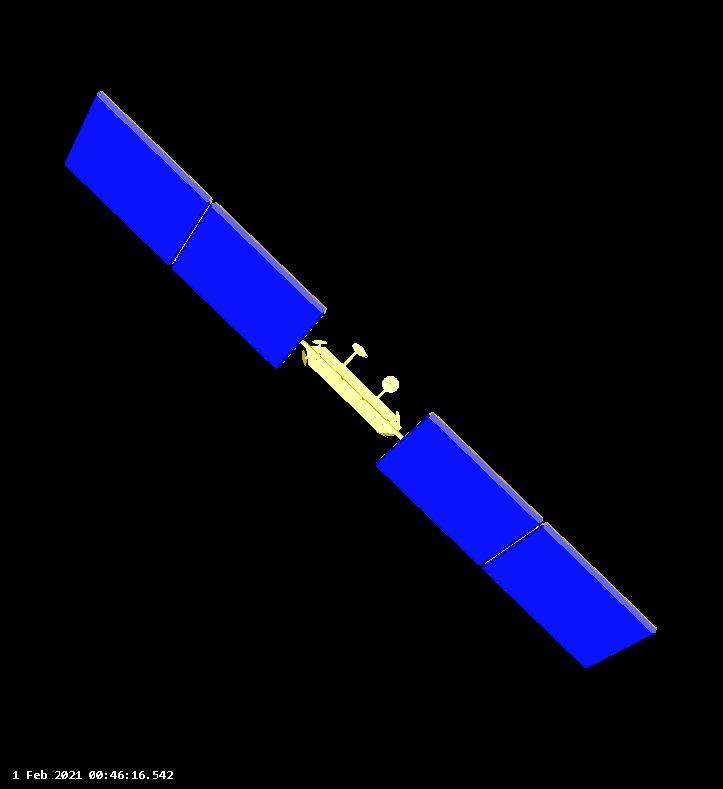antenna: (377, 370, 403, 395), (345, 337, 373, 359), (309, 333, 331, 348)
body: (297, 340, 408, 440)
solar: (60, 82, 332, 379), (374, 408, 660, 678)
